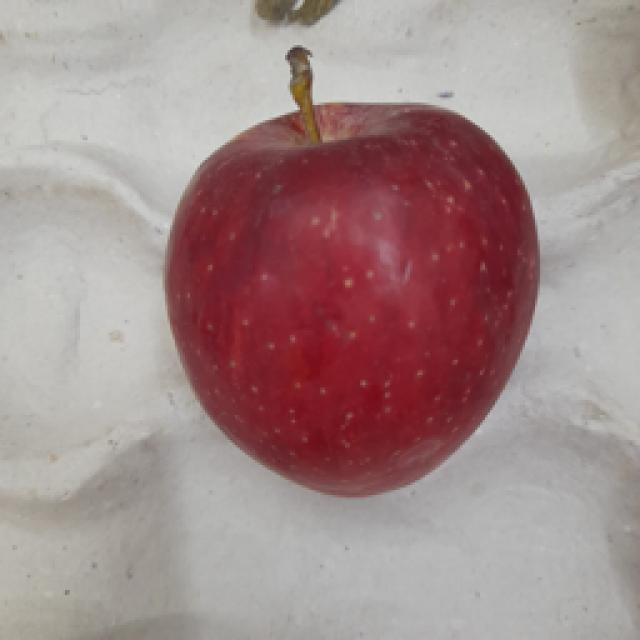Fresh_Apple: (155, 32, 547, 499)
